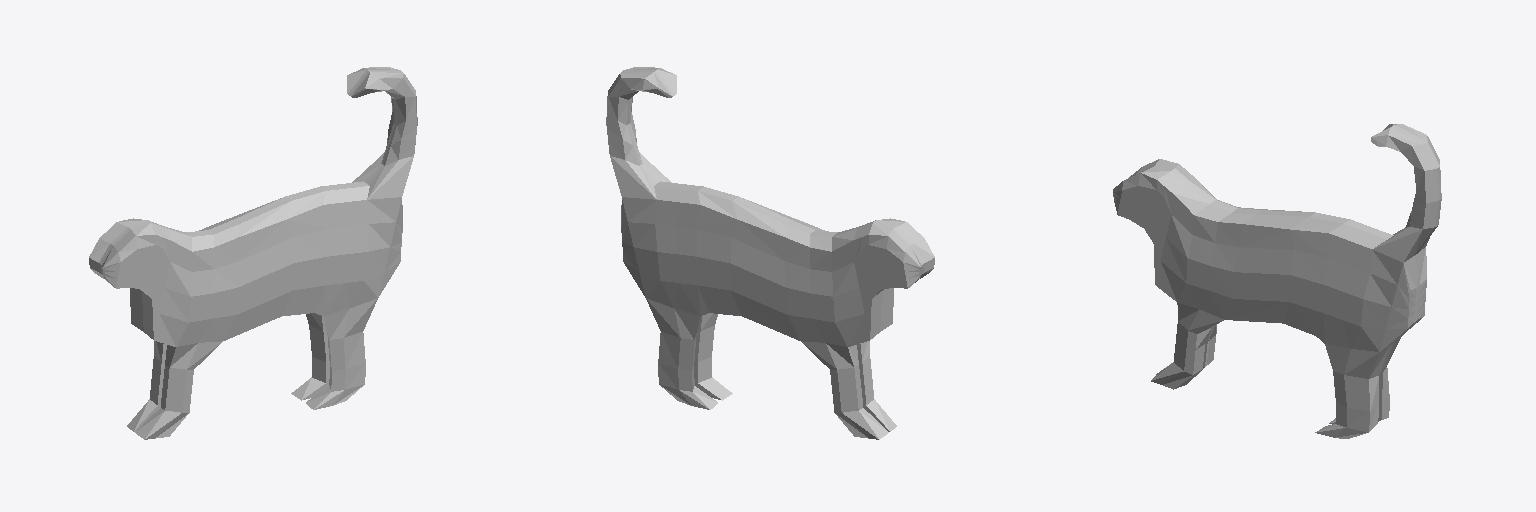
Rendered from cat.obj.
The picture shows the model from 3 angles: view 1: azimuth 30°, elevation 25°; view 2: azimuth 150°, elevation 25°; view 3: azimuth 330°, elevation 25°; orthographic projection.
Visible parts, largest first — view 1: Plane; view 2: Plane; view 3: Plane.
Boxes of the visible parts, x1,y1,x2,y2 form: Plane: [89, 67, 417, 439]; Plane: [606, 67, 934, 439]; Plane: [1113, 124, 1441, 438].
Size of the model in its own units: 3.25 by 3.06 by 0.4808.